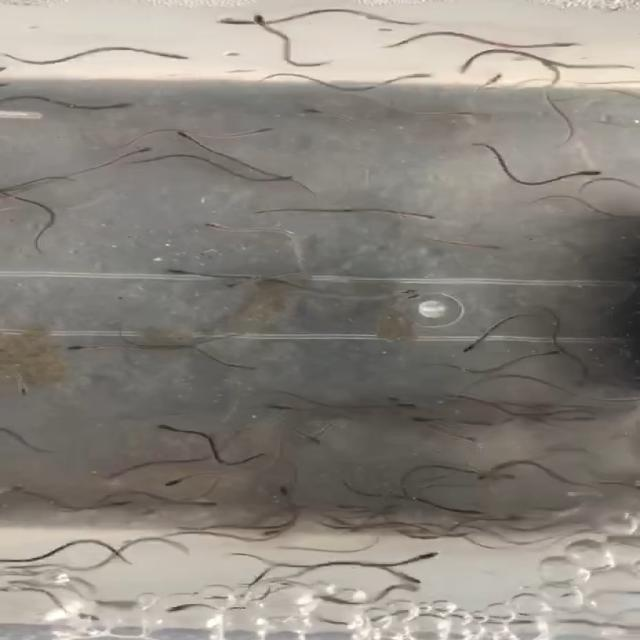active_glass_eel: (186, 214, 240, 237), (402, 414, 452, 434), (156, 264, 195, 286), (146, 471, 193, 489), (447, 498, 492, 516), (250, 122, 291, 140), (159, 50, 201, 67), (442, 336, 479, 355), (408, 206, 447, 224), (100, 96, 135, 116), (262, 399, 305, 415), (243, 11, 280, 29), (576, 161, 611, 180), (409, 548, 454, 562), (158, 601, 199, 615), (55, 340, 98, 353), (260, 479, 297, 494), (122, 142, 161, 156), (144, 419, 184, 432), (525, 345, 559, 360), (386, 394, 419, 409), (387, 70, 435, 80), (454, 60, 478, 80), (108, 496, 148, 508), (548, 36, 582, 50), (212, 279, 256, 289), (176, 129, 200, 145), (471, 471, 503, 483), (393, 574, 431, 584), (291, 103, 330, 112), (447, 108, 477, 118)
